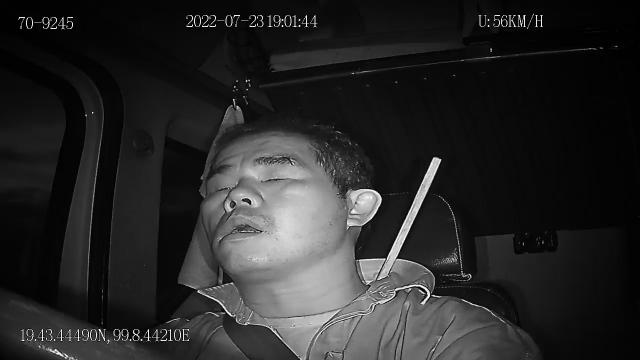Seatbelt: (222, 310, 304, 360)
